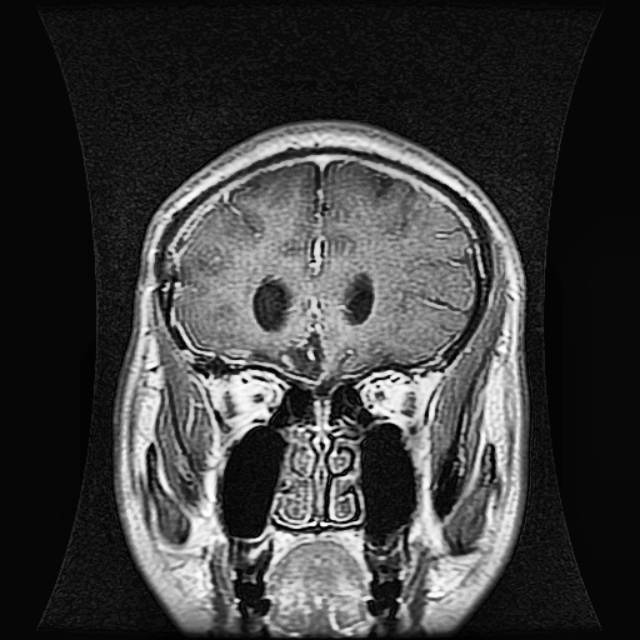Meningioma: (272, 327, 324, 379)
